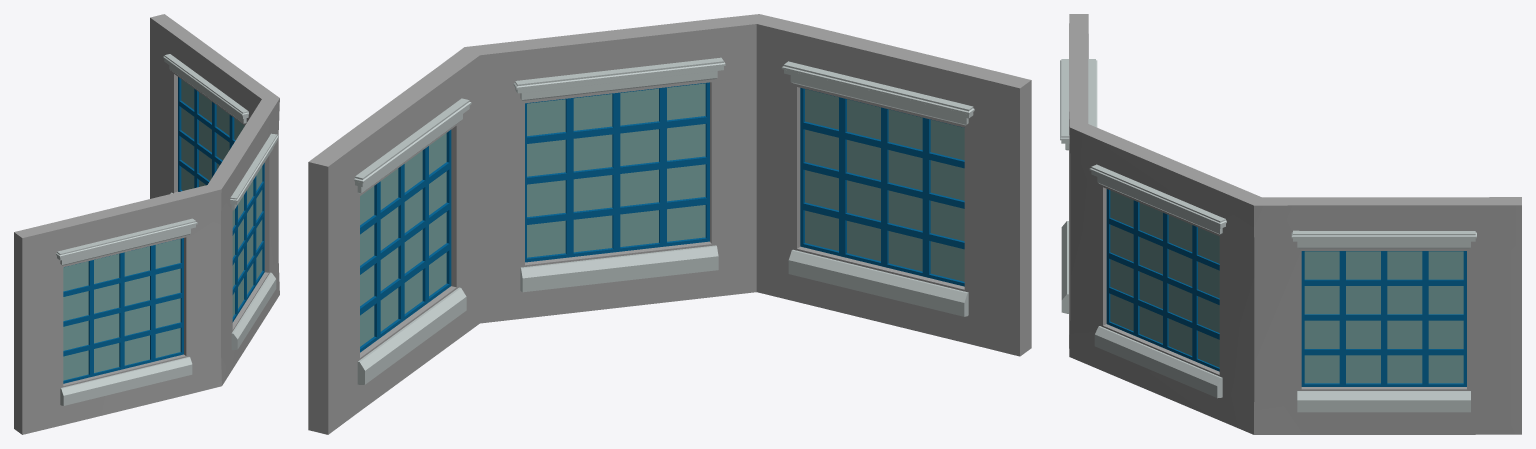
File: NY_Street_Window_Building_Bevel_B.fbx
The picture shows the model from 3 angles, left to right: view 1: azimuth 30°, elevation 25°; view 2: azimuth 150°, elevation 25°; view 3: azimuth 270°, elevation 25°; orthographic projection. The views are drawn at different scales.
Visible parts, largest first — view 1: NY_Street_Window_Building_Bevel_B; view 2: NY_Street_Window_Building_Bevel_B; view 3: NY_Street_Window_Building_Bevel_B.
Part boxes in pixels (x1,y1,x2,y2): NY_Street_Window_Building_Bevel_B: (14,14,279,434); NY_Street_Window_Building_Bevel_B: (308,14,1031,434); NY_Street_Window_Building_Bevel_B: (1060,14,1521,434).
Size of the model in its own units: 730 by 400 by 730.
